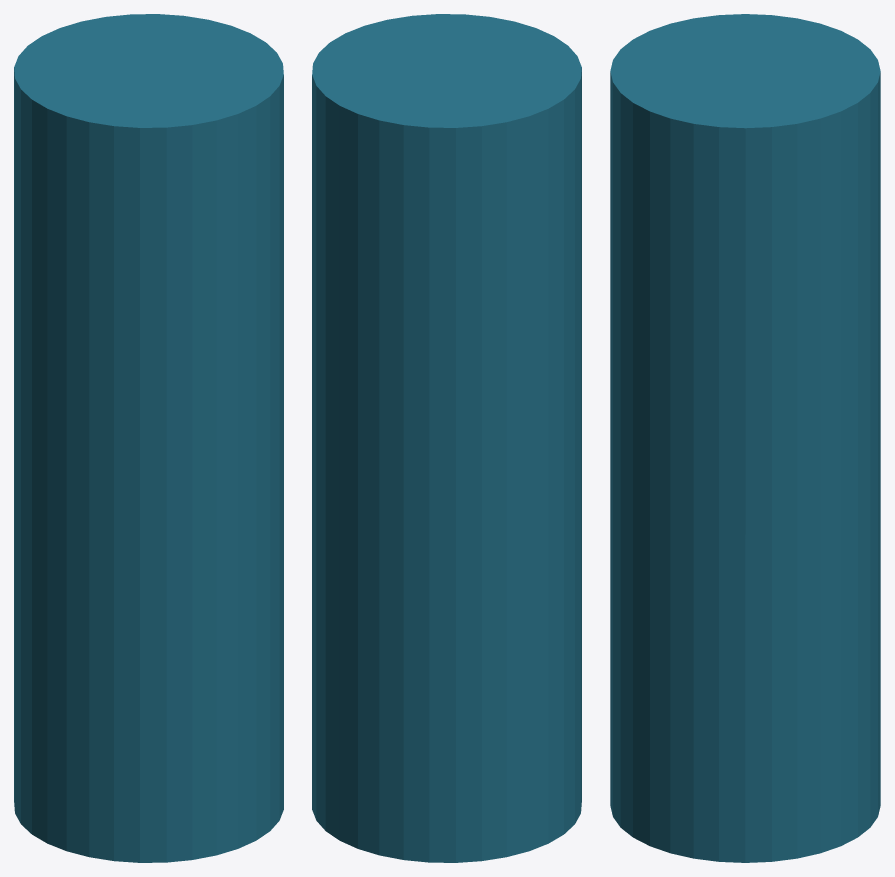
File: moth_example.fbx
3 views of the same model, side by side, from view 1: azimuth 30°, elevation 25°; view 2: azimuth 150°, elevation 25°; view 3: azimuth 270°, elevation 25° (orthographic).
Parts seen in each view (by area): view 1: Cylinder; view 2: Cylinder; view 3: Cylinder.
Boxes of the visible parts, box(x1,y1,x2,y2) form: Cylinder: box(14, 14, 283, 862); Cylinder: box(312, 14, 581, 862); Cylinder: box(610, 14, 880, 862).
Bounding box in the file's own units: 100 × 300 × 100.
